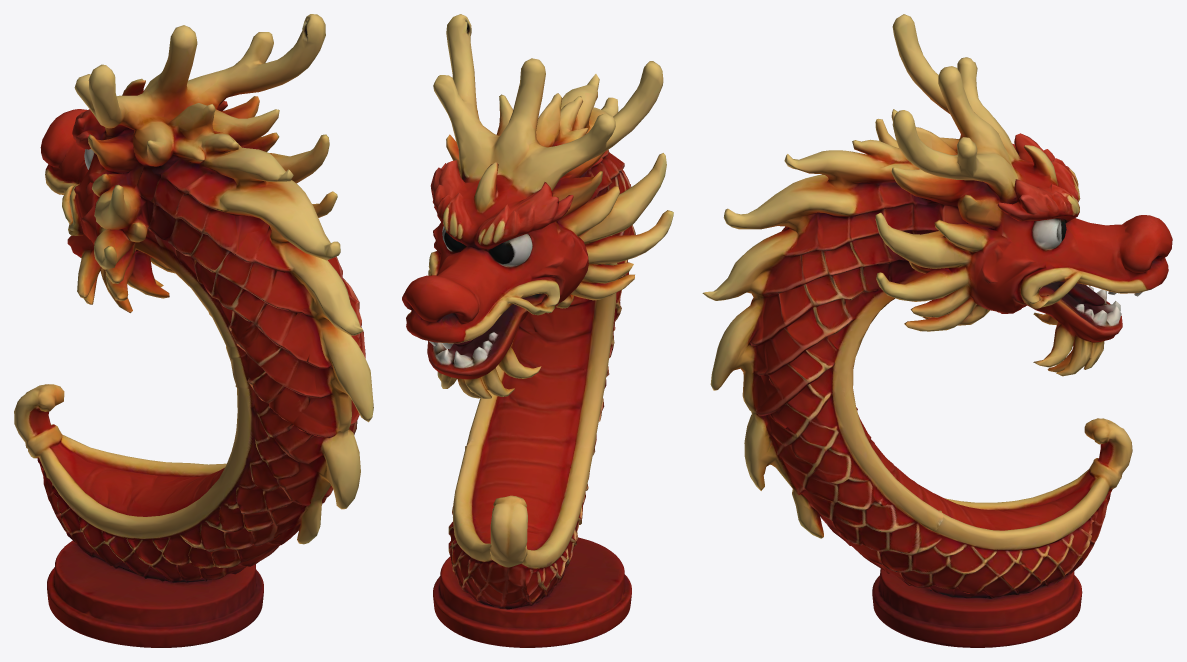
Rendered from hero-head.glb.
The picture shows the model from 3 angles, left to right: view 1: azimuth 30°, elevation 25°; view 2: azimuth 150°, elevation 25°; view 3: azimuth 270°, elevation 25°; orthographic projection. The views are drawn at different scales.
Parts seen in each view (by area): view 1: tripo_node_85a79abf-12bd-48bd-a83e-e98739e04662; view 2: tripo_node_85a79abf-12bd-48bd-a83e-e98739e04662; view 3: tripo_node_85a79abf-12bd-48bd-a83e-e98739e04662.
Part boxes in pixels (<box>): tripo_node_85a79abf-12bd-48bd-a83e-e98739e04662: <box>14,14,373,647</box>; tripo_node_85a79abf-12bd-48bd-a83e-e98739e04662: <box>402,14,673,647</box>; tripo_node_85a79abf-12bd-48bd-a83e-e98739e04662: <box>702,14,1172,647</box>.
Size of the model in its own units: 0.4084 by 0.9803 by 0.7589.
1 material, 1 textured.
